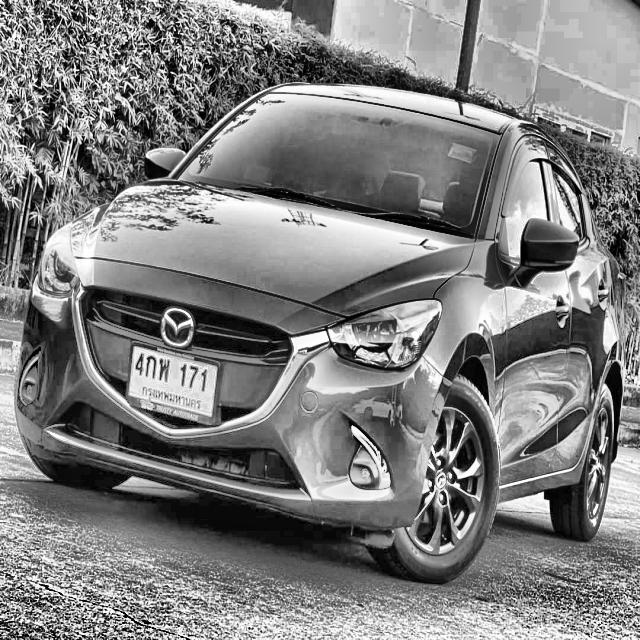license-plate: (122, 334, 222, 426)
